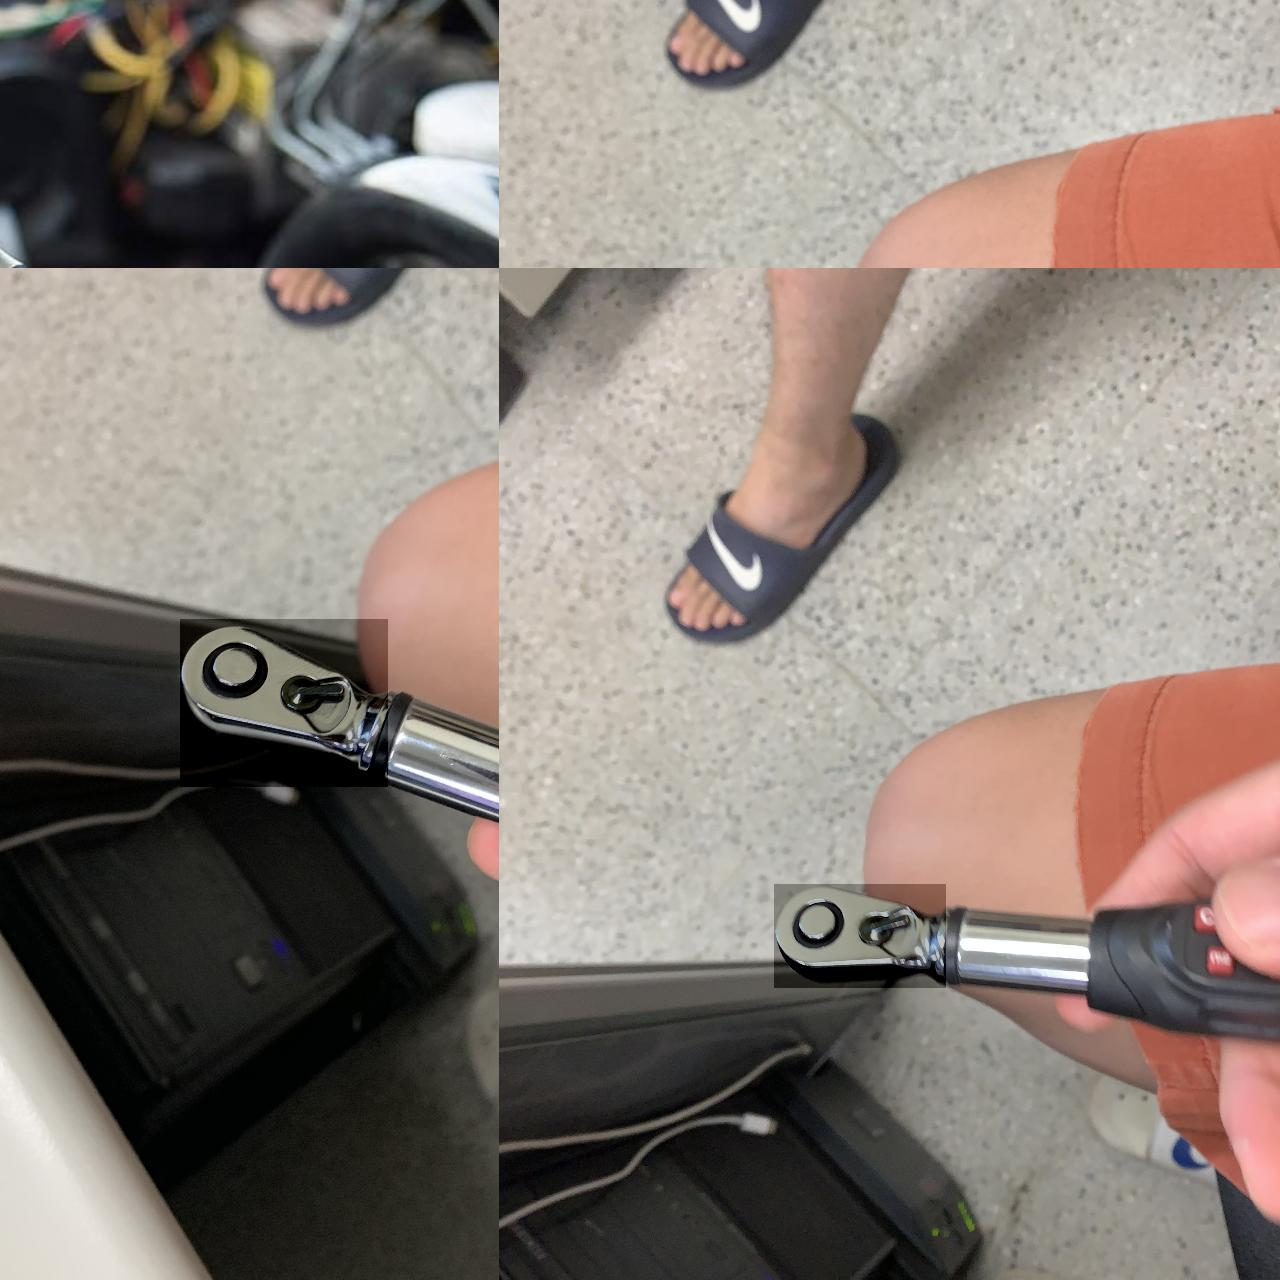Tool: (179, 618, 387, 787), (772, 883, 945, 987)
